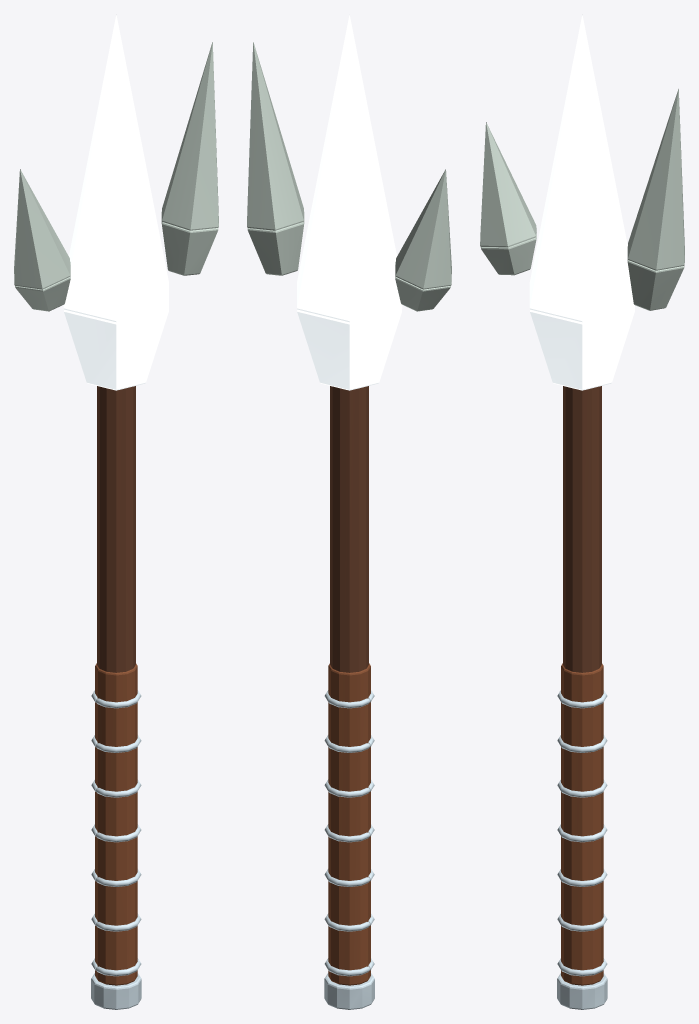
Rendered from item_038.glb.
3 renders of one model, left to right at view 1: azimuth 30°, elevation 25°; view 2: azimuth 150°, elevation 25°; view 3: azimuth 330°, elevation 25°, orthographic.
Visible parts, largest first — view 1: Item_038_icicle_baton; view 2: Item_038_icicle_baton; view 3: Item_038_icicle_baton.
Part boxes in pixels (left/top/right/bottom): Item_038_icicle_baton: left=14, top=15, right=218, bottom=1009; Item_038_icicle_baton: left=247, top=15, right=451, bottom=1009; Item_038_icicle_baton: left=480, top=15, right=684, bottom=1009.
Size of the model in its own units: 0.4242 by 1.96 by 0.1894.
